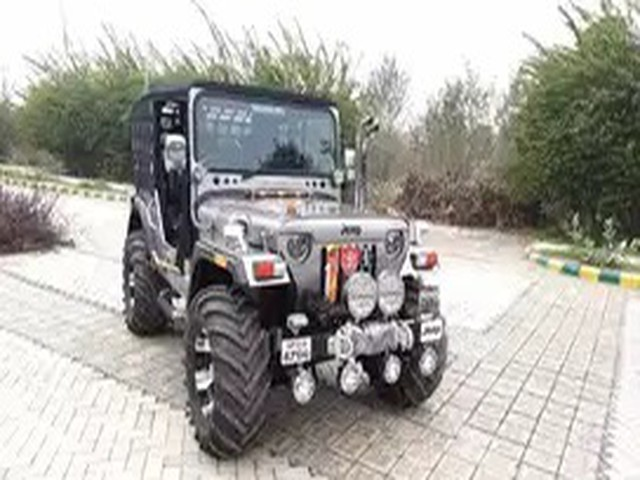Vehicle: (119, 70, 450, 461)
